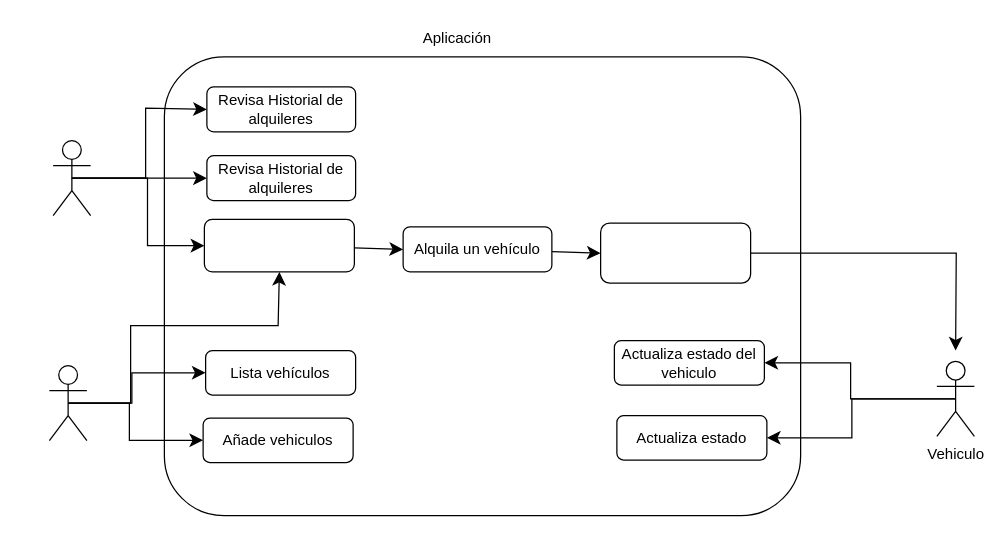
Image size: 1005x538. Some labels were removed from this diagram. The shapes that lost their labels are listed below. From the top down, each one's centre as x and y in pixels, then its label:
At point (71, 177): "Usuario".
At point (278, 245): "Obtiene los vehículos disponibles".
At point (675, 252): "Notifica la a asignación y el tiempo".
At point (67, 402): "Administrador".
